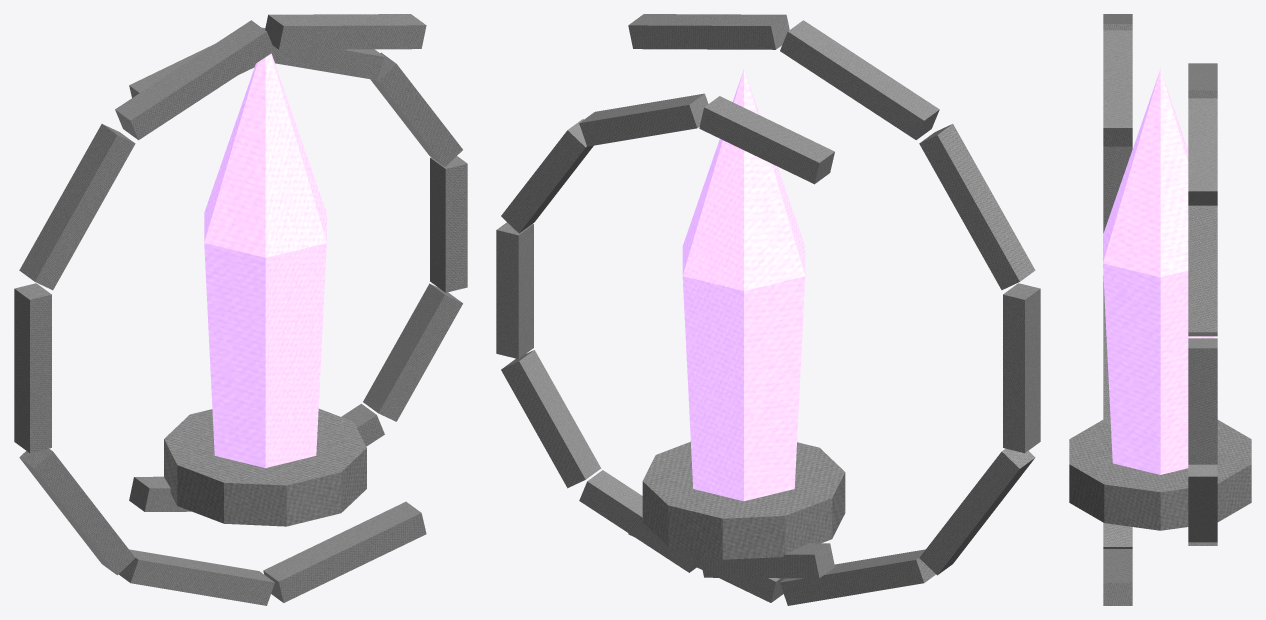
File: boss-queen-veilheart.glb
3 renders of one model, left to right at view 1: azimuth 30°, elevation 25°; view 2: azimuth 150°, elevation 25°; view 3: azimuth 270°, elevation 25°, orthographic. The views are drawn at different scales.
Parts seen in each view (by area): view 1: veil-core, veil-collar, right-veil-2, right-veil-1, right-veil-6, right-veil-3, right-veil-0, left-veil-2, right-veil-5, left-veil-3, right-veil-4, left-veil-4 (+4 smaller); view 2: veil-core, veil-collar, right-veil-2, right-veil-1, right-veil-3, right-veil-0, left-veil-2, left-veil-6, left-veil-3, right-veil-5, right-veil-4, left-veil-5 (+4 smaller); view 3: veil-core, veil-collar, left-veil-4, left-veil-3, right-veil-0, left-veil-5, left-veil-2, right-veil-6, right-veil-3, left-veil-6, right-veil-5, right-veil-4 (+1 smaller).
Part boxes in pixels (box(x1,y1,x2,y2)): veil-core: box(204, 53, 326, 467); veil-collar: box(164, 408, 366, 526); right-veil-2: box(19, 124, 135, 290); right-veil-1: box(115, 20, 274, 140); right-veil-6: box(263, 501, 426, 602); right-veil-3: box(14, 283, 51, 452); right-veil-0: box(265, 14, 426, 49); left-veil-2: box(363, 283, 462, 421); right-veil-5: box(118, 549, 274, 605); left-veil-3: box(430, 156, 467, 292); right-veil-4: box(19, 448, 135, 575); left-veil-4: box(370, 52, 462, 166); veil-core: box(682, 69, 805, 501); veil-collar: box(642, 441, 845, 559); right-veil-2: box(919, 124, 1035, 289); right-veil-1: box(780, 20, 939, 139); right-veil-3: box(1003, 283, 1040, 453); right-veil-0: box(628, 14, 789, 49); left-veil-2: box(501, 350, 601, 488); left-veil-6: box(699, 96, 834, 184); left-veil-3: box(496, 222, 533, 358); right-veil-5: box(780, 549, 935, 605); right-veil-4: box(919, 448, 1035, 575); left-veil-5: box(579, 93, 708, 146); veil-core: box(1103, 69, 1217, 474); veil-collar: box(1069, 418, 1251, 530); left-veil-4: box(1188, 205, 1217, 336); left-veil-3: box(1188, 338, 1217, 464); right-veil-0: box(1103, 30, 1132, 146); left-veil-5: box(1188, 98, 1217, 205); left-veil-2: box(1188, 464, 1217, 542); right-veil-6: box(1103, 549, 1132, 605); right-veil-3: box(1103, 146, 1132, 233); left-veil-6: box(1188, 63, 1217, 98); right-veil-5: box(1103, 523, 1132, 548); right-veil-4: box(1103, 276, 1110, 419).
Bounding box in the file's own units: 0.985 × 1.12 × 0.3424.
Materials: 3 (3 with a texture image).
